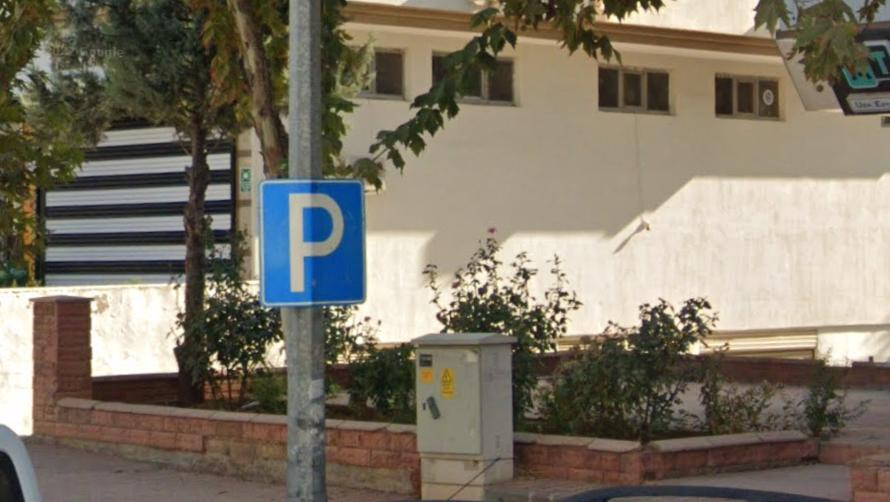park: (266, 186, 365, 307)
